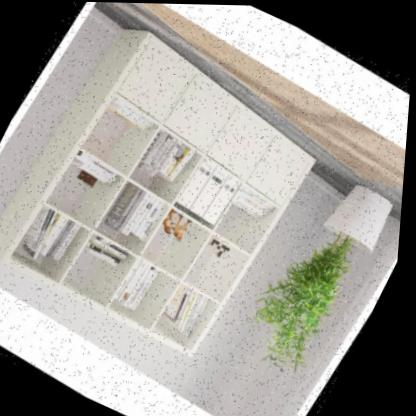Shelf: (0, 0, 358, 388)
